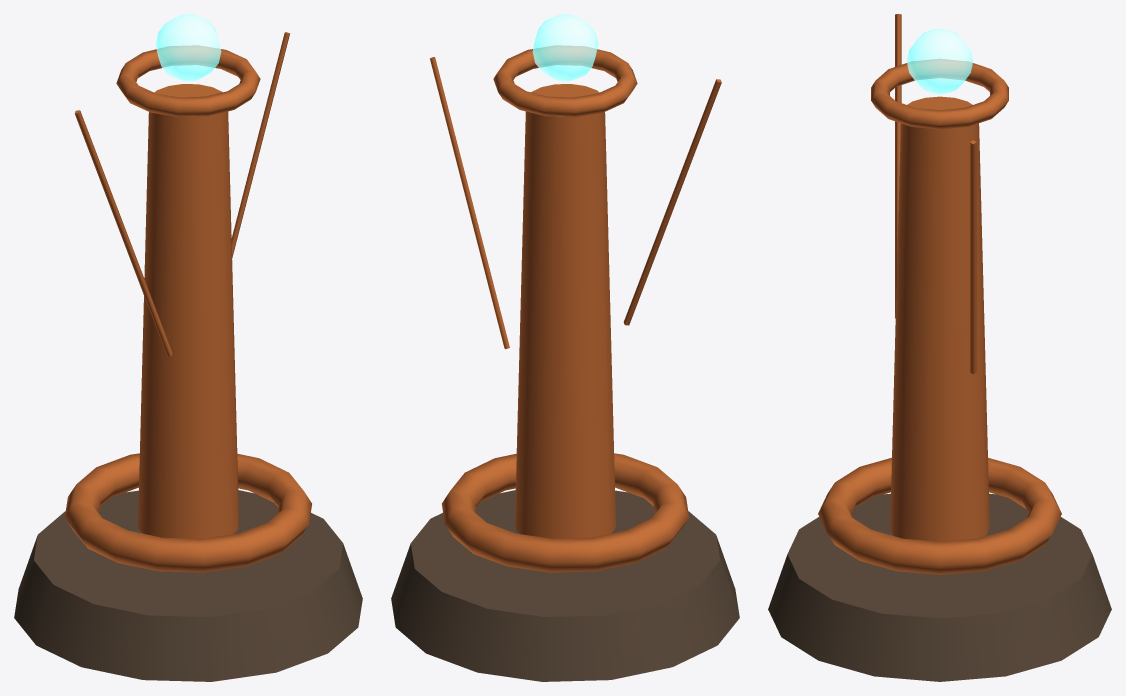
The model's file is tesla_coil.glb.
3 views of the same model, side by side, from view 1: azimuth 30°, elevation 25°; view 2: azimuth 150°, elevation 25°; view 3: azimuth 270°, elevation 25° (orthographic). The views are drawn at different scales.
Visible parts, largest first — view 1: Tesla Coil, coil_secondary, coil_primary, coil_top, arc_core; view 2: Tesla Coil, coil_secondary, coil_primary, coil_top, arc_core; view 3: Tesla Coil, coil_secondary, coil_primary, coil_top, arc_core.
Part boxes in pixels (x1,y1,x2,y2): Tesla Coil: [14, 32, 362, 681]; coil_secondary: [138, 84, 238, 538]; coil_primary: [64, 453, 311, 572]; coil_top: [116, 45, 260, 117]; arc_core: [155, 14, 221, 81]; Tesla Coil: [391, 57, 739, 681]; coil_secondary: [515, 84, 615, 538]; coil_primary: [442, 453, 689, 572]; coil_top: [493, 45, 637, 117]; arc_core: [532, 14, 598, 81]; Tesla Coil: [768, 14, 1111, 681]; coil_secondary: [890, 96, 989, 541]; coil_primary: [818, 457, 1061, 574]; coil_top: [871, 59, 1008, 129]; arc_core: [906, 28, 973, 94].
Size of the model in its own units: 1.24 by 2.3 by 1.24.
